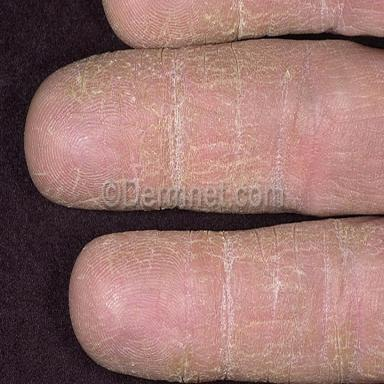eczema: (27, 0, 384, 382)
